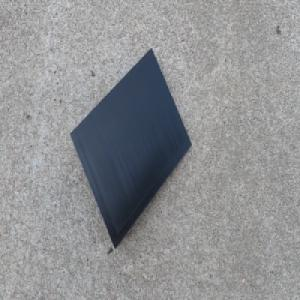PlasticPart: (68, 46, 192, 250)
